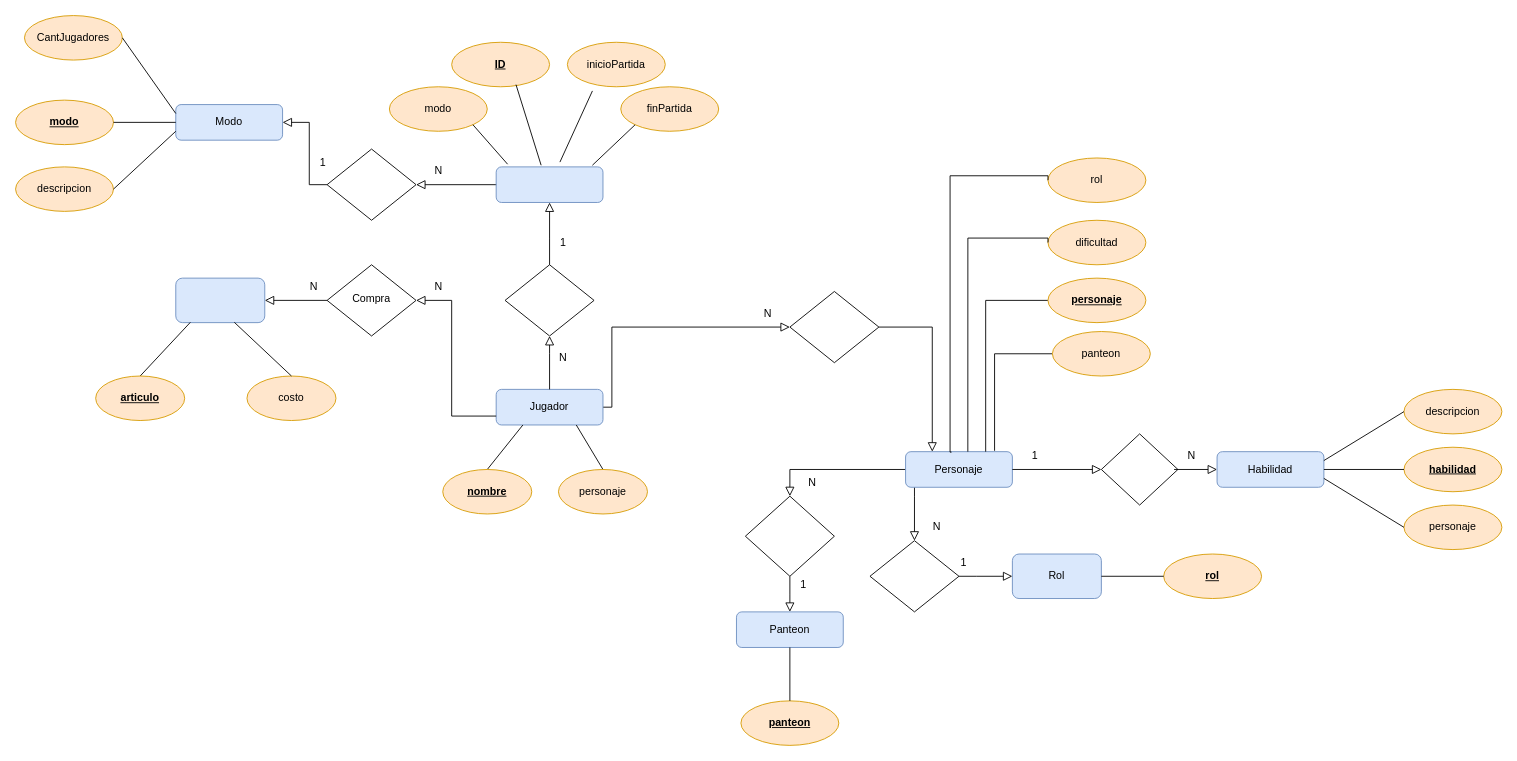
The diagram is 1517 pixels wide and 761 high, and some of its shapes have lost their labels. Here are the shapes that lost their labels. From the top down, the centre of each, then its label:
At [371,184]: "Contiene".
At [549,184]: "Partida".
At [220,300]: "Artículo".
At [549,300]: "Juega".
At [834,327]: "Selecciona".
At [1139,469]: "Usa".
At [789,535]: "Tiene".
At [914,576]: "Posee".
